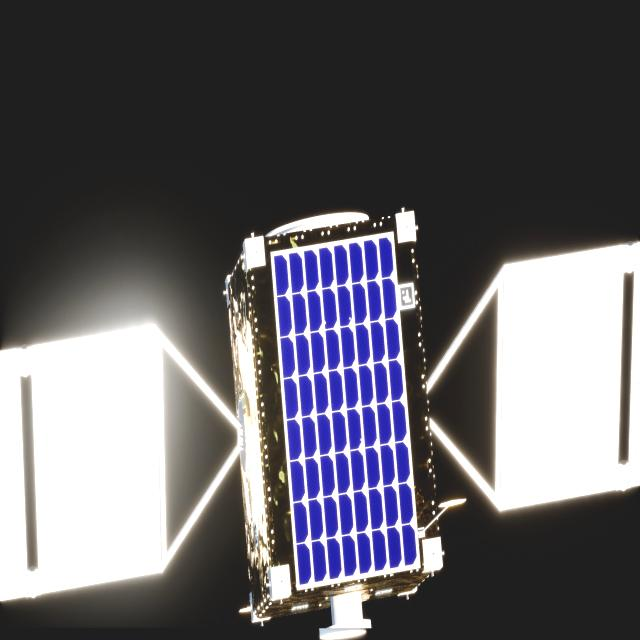medium_debris: (0, 212, 640, 640)
